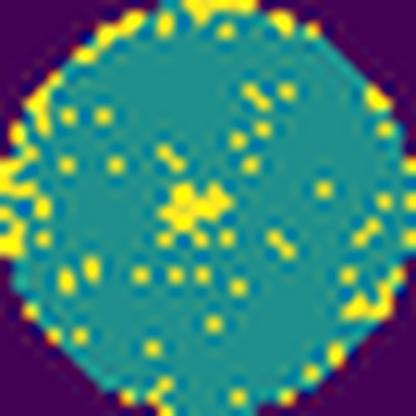Center: (155, 176, 235, 250)
